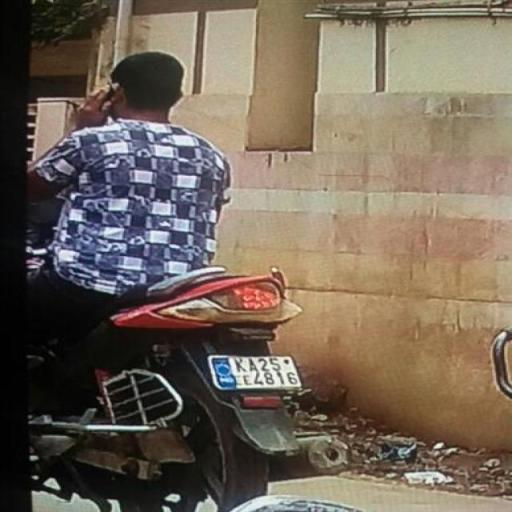using mobile: (78, 78, 124, 122)
